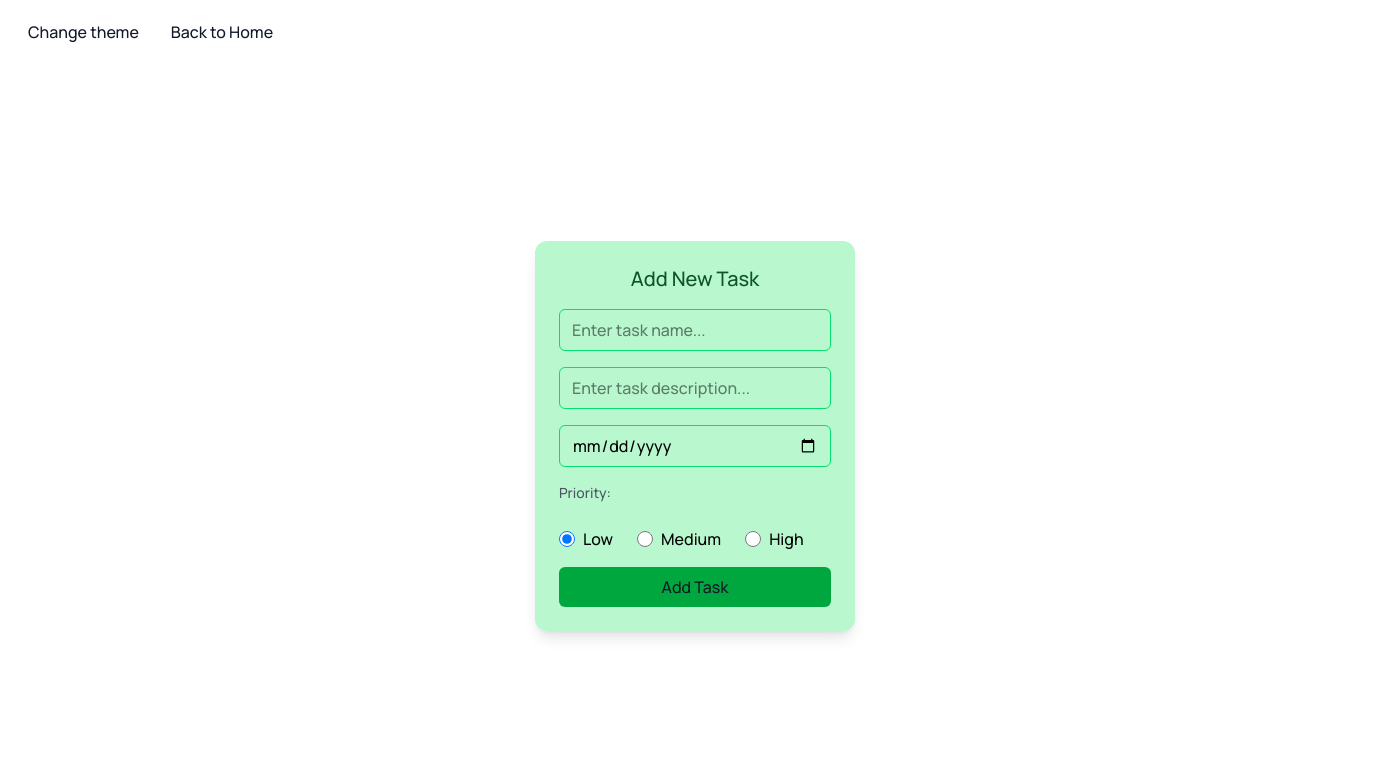
it: AddNewTask POST request success › shows success notification when request succeeds
The image size is (1378, 780).
Note: Fill form
Type "Test Task" into the field with placeholder "Enter task name..." at (695, 330), box x1=559 y1=309 x2=831 y2=351
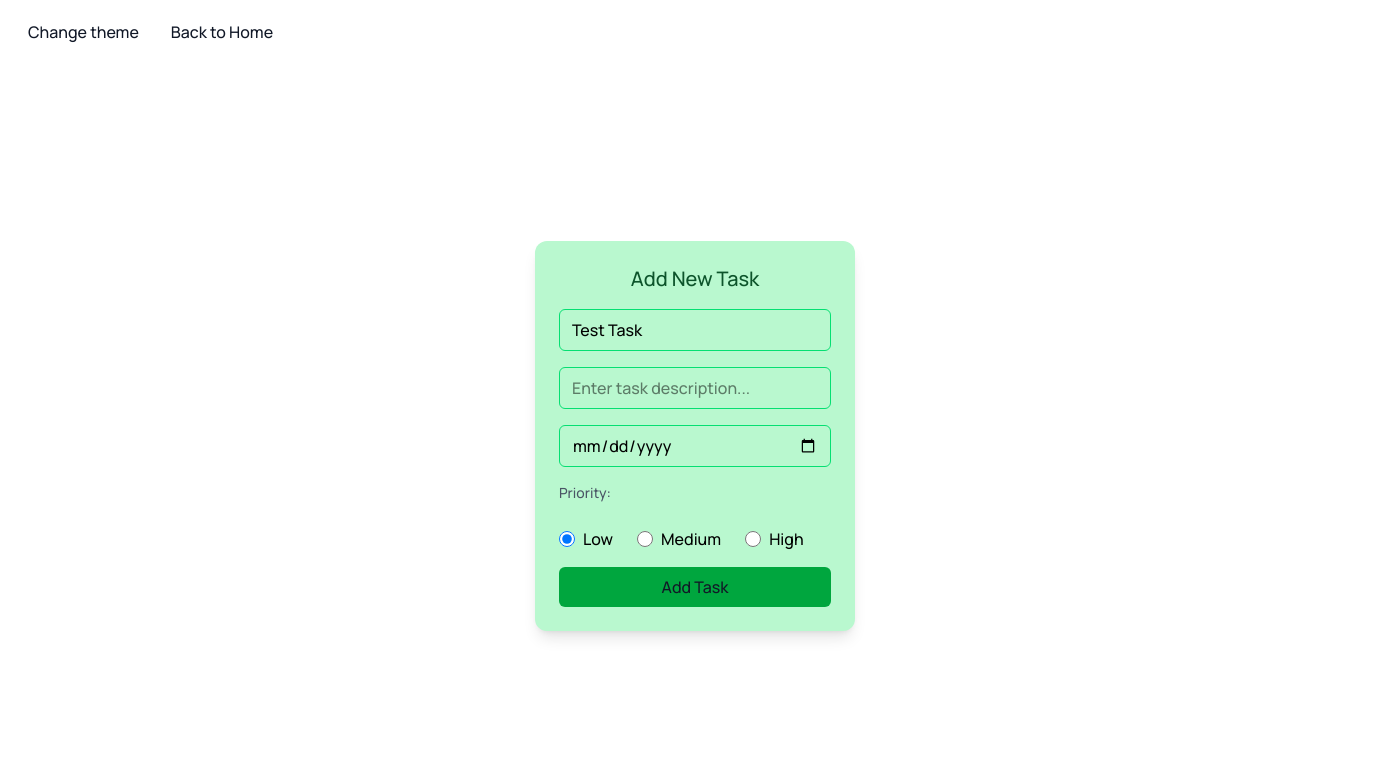
Type "Test Description" into the field with placeholder "Enter task description..." at (695, 388), box x1=559 y1=367 x2=831 y2=409
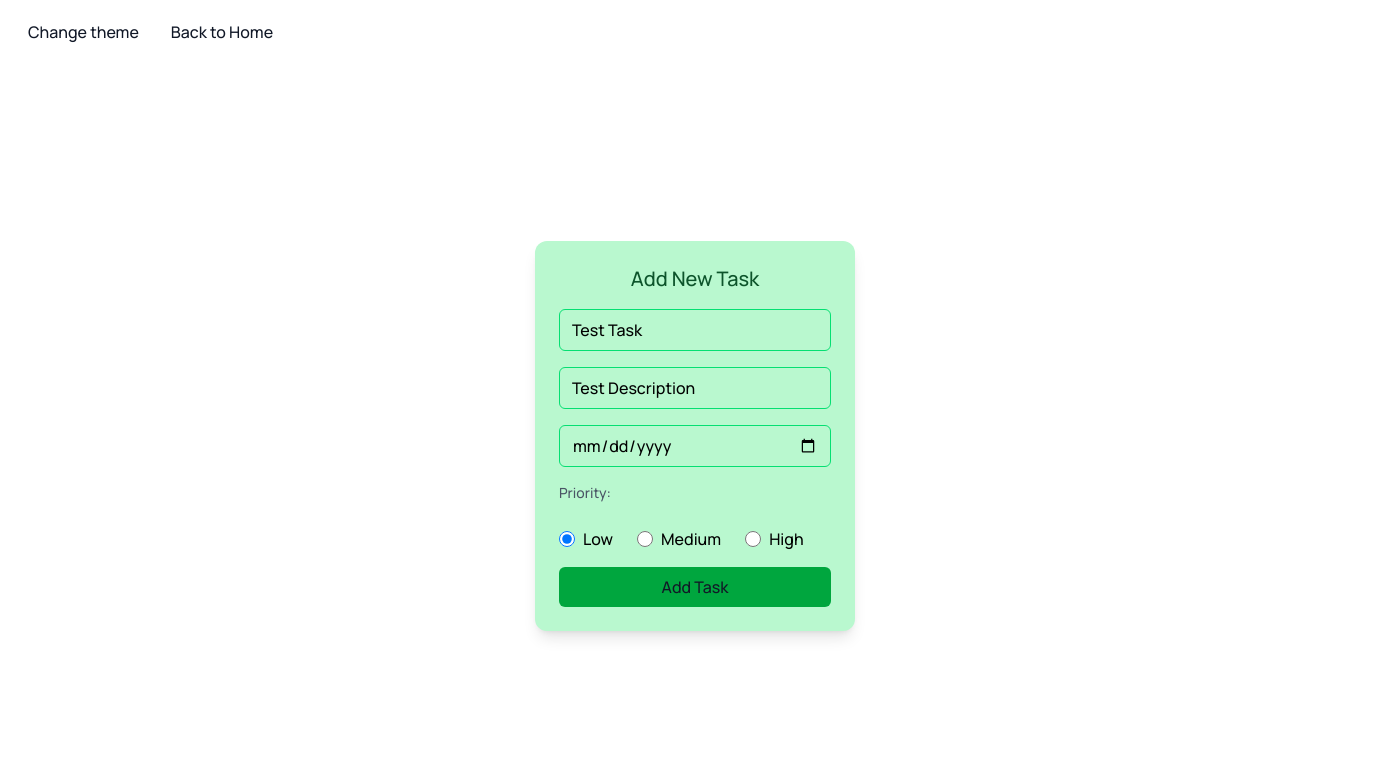
Type "2026-02-18" into the date field at (695, 446), box x1=559 y1=425 x2=831 y2=467
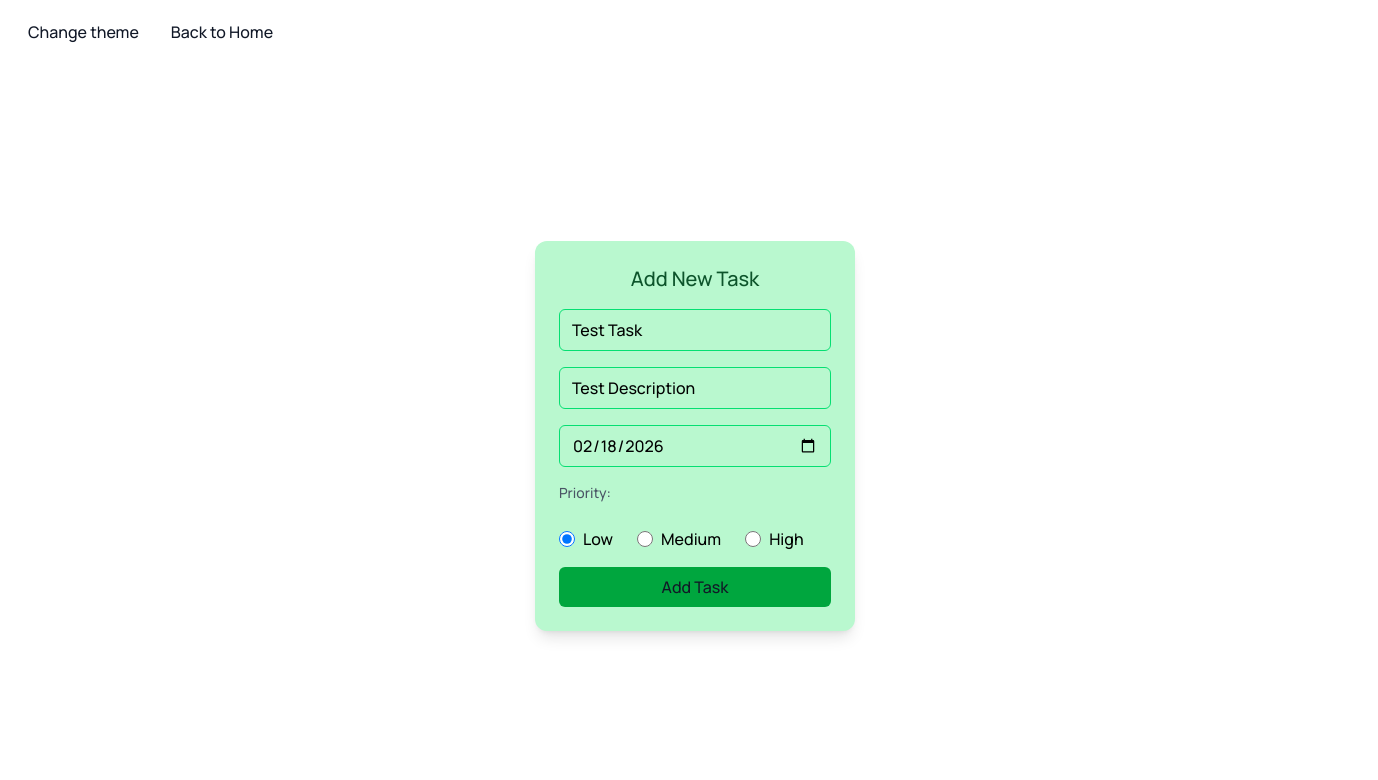
Click the button "Add Task" at (695, 587), box x1=559 y1=567 x2=831 y2=607
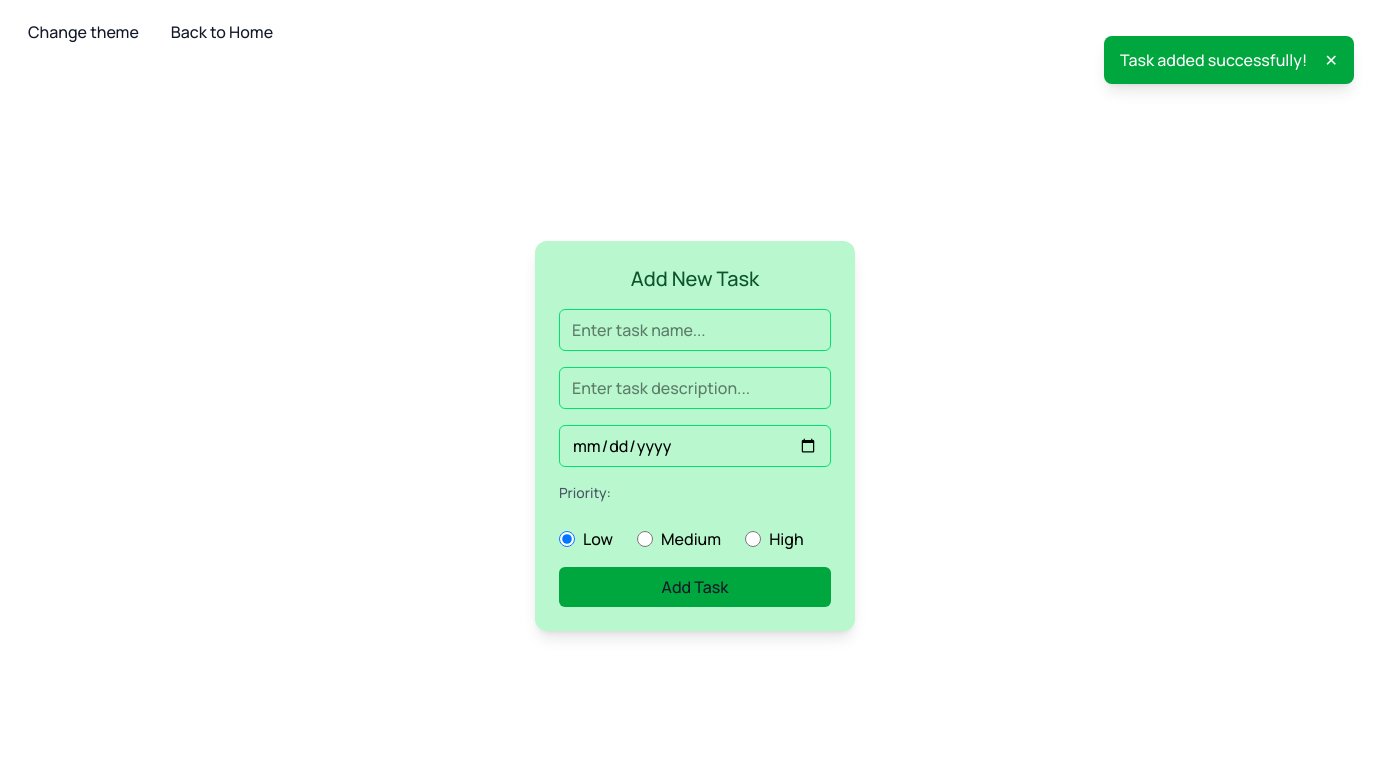
Check: the text "Task added successfully!" is shown, box x1=1120 y1=48 x2=1307 y2=72
